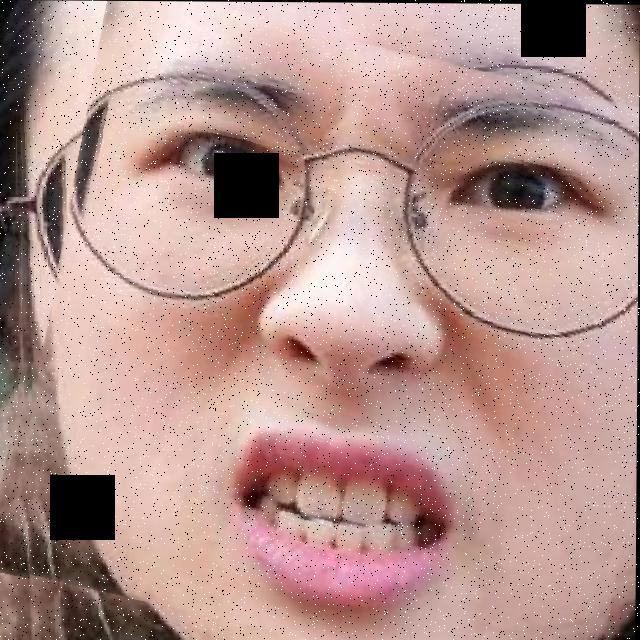anger: (9, 10, 640, 640)
